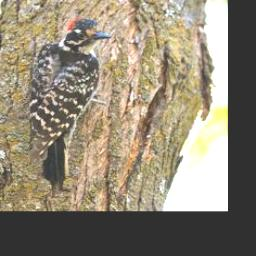Woodpecker: (34, 15, 110, 194)
